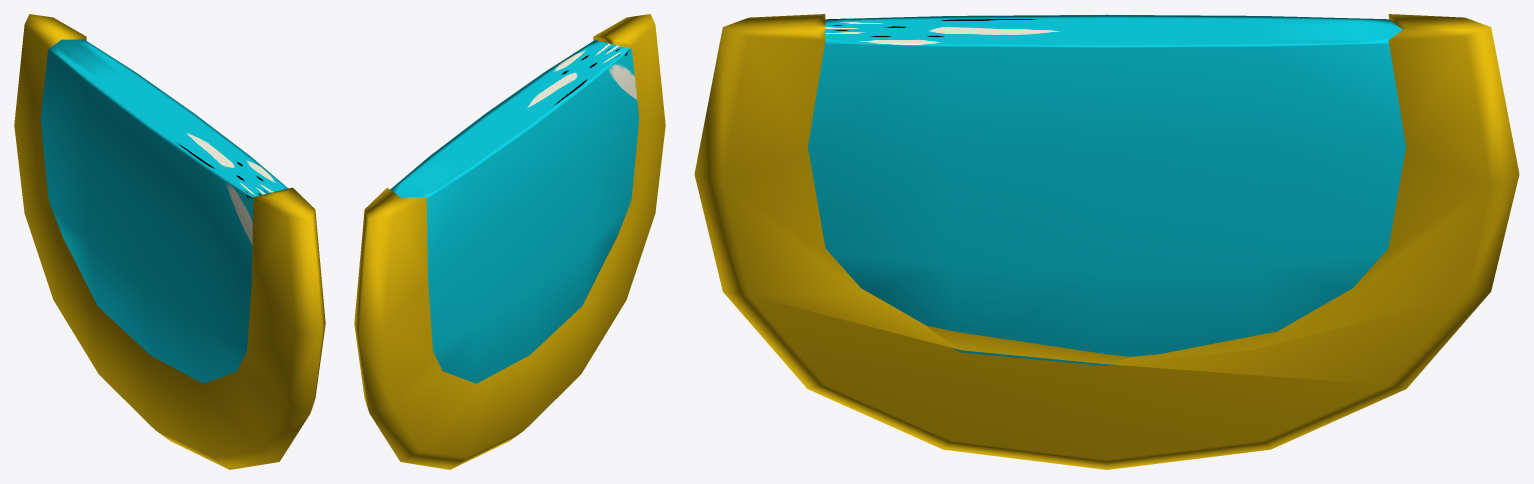
The model's file is Glister.glb.
3 views of the same model, side by side, from view 1: azimuth 30°, elevation 25°; view 2: azimuth 150°, elevation 25°; view 3: azimuth 270°, elevation 25° (orthographic). The views are drawn at different scales.
Parts seen in each view (by area): view 1: Flesh, Glister; view 2: Flesh, Glister; view 3: Flesh, Glister.
Boxes of the visible parts, bbox=[...] form: Flesh: bbox=[40, 39, 288, 383]; Glister: bbox=[14, 14, 325, 469]; Flesh: bbox=[390, 40, 639, 383]; Glister: bbox=[354, 14, 665, 469]; Flesh: bbox=[808, 14, 1405, 366]; Glister: bbox=[694, 14, 1519, 469].
Bounding box in the file's own units: 1.86 × 10.38 × 17.52.
2 materials, 1 textured.
